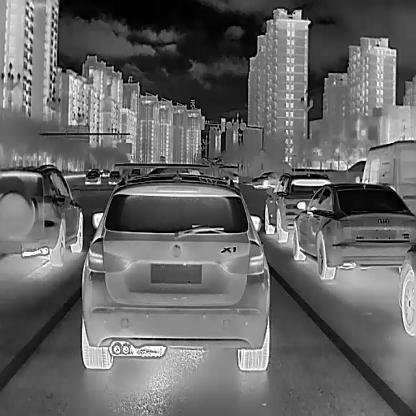car: (79, 168, 272, 374), (290, 181, 416, 282), (0, 160, 83, 267), (353, 137, 415, 218), (262, 171, 330, 243), (250, 170, 280, 191), (84, 168, 101, 186), (107, 169, 121, 184)
